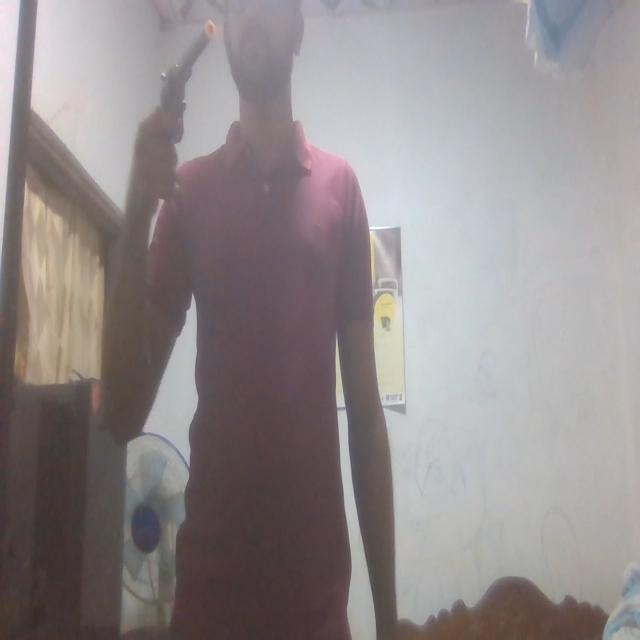Gun_Holder: (139, 9, 229, 211)
Person: (112, 0, 398, 640)
